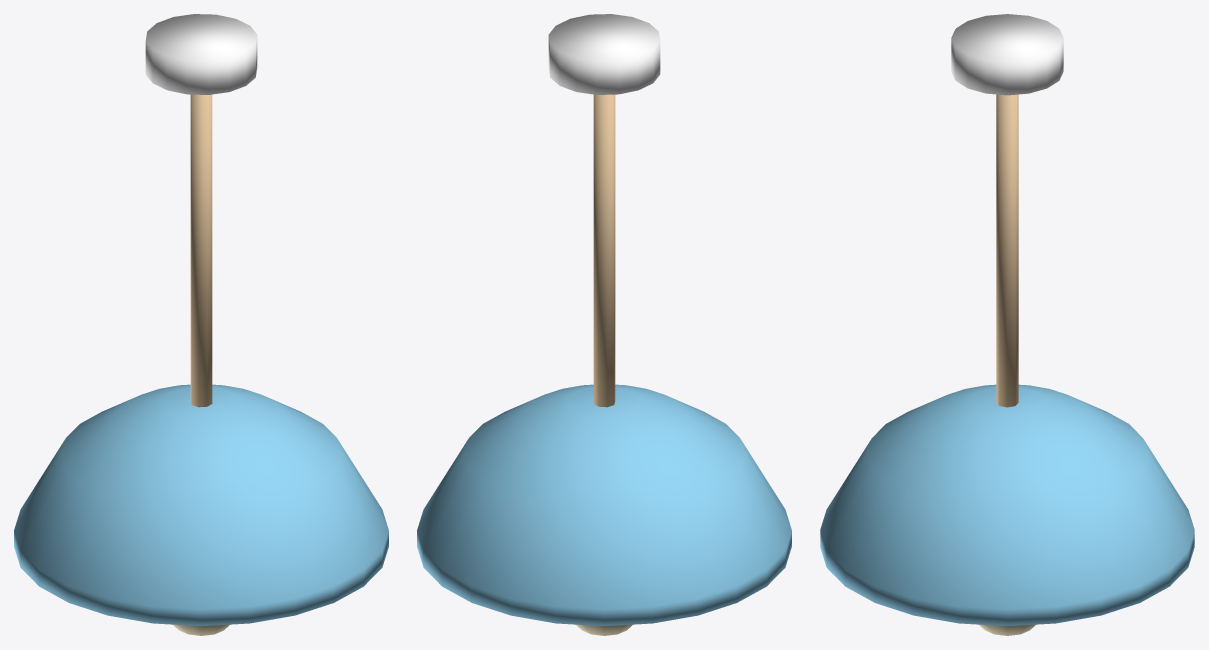
File: lamp_bulb.glb
The picture shows the model from 3 angles, left to right: view 1: azimuth 30°, elevation 25°; view 2: azimuth 150°, elevation 25°; view 3: azimuth 270°, elevation 25°; orthographic projection.
Visible parts, largest first — view 1: Body; view 2: Body; view 3: Body.
Boxes of the visible parts, <box> form: Body: <box>14,14,388,626</box>; Body: <box>417,14,791,626</box>; Body: <box>820,14,1194,626</box>.
Size of the model in its own units: 0.4 by 0.7 by 0.4.
Materials: 4 (4 with a texture image).
